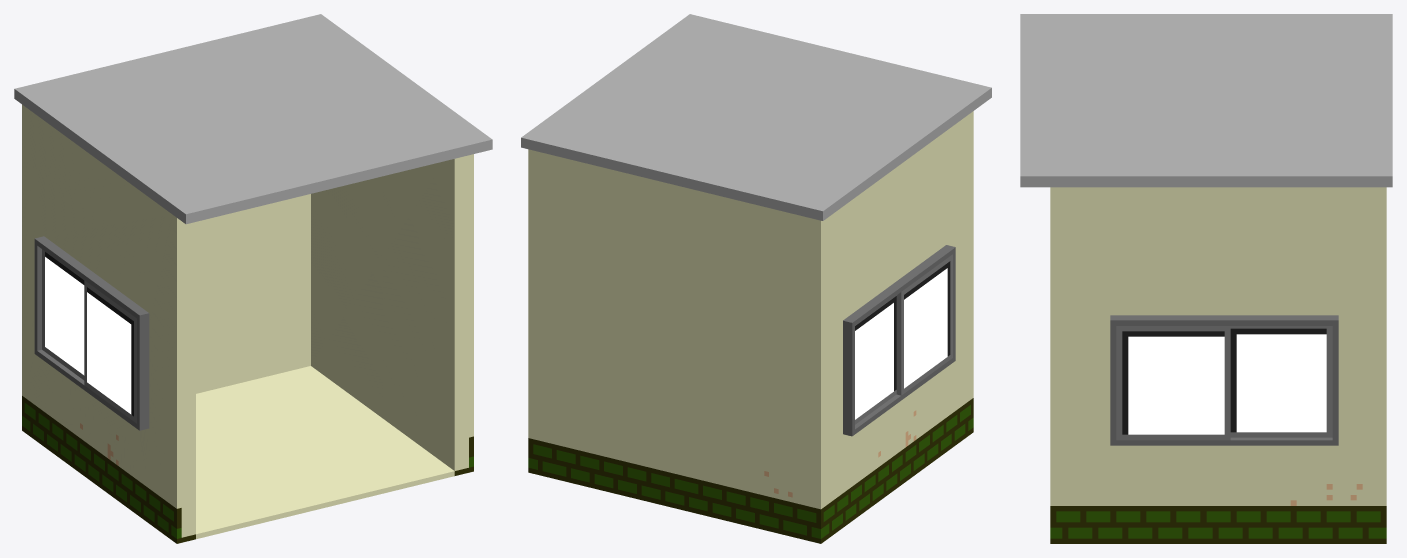
Rendered from typeOne.glb.
3 renders of one model, left to right at view 1: azimuth 30°, elevation 25°; view 2: azimuth 150°, elevation 25°; view 3: azimuth 270°, elevation 25°, orthographic. The views are drawn at different scales.
Visible parts, largest first — view 1: ObjObject; view 2: ObjObject; view 3: ObjObject.
Part boxes in pixels (box(x1,y1,x2,y2)): ObjObject: box(14, 14, 492, 543); ObjObject: box(521, 14, 991, 543); ObjObject: box(1020, 14, 1392, 543).
Bounding box in the file's own units: 6.6 × 6.8 × 6.2.
Materials: 2 (1 with a texture image).
